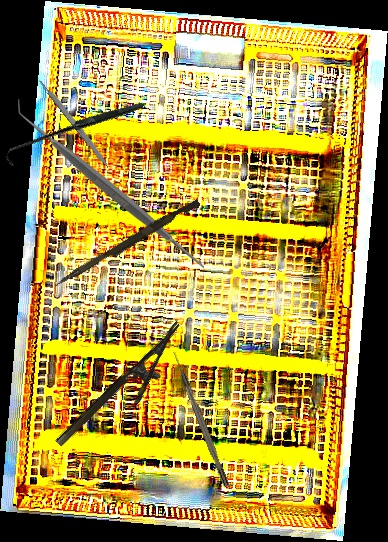Hook Surgical: (3, 64, 145, 203), (171, 350, 230, 488)
Needle Holder: (53, 321, 200, 463)
Pusher: (53, 194, 201, 294)
Scalpel Handle: (38, 78, 112, 169)
Spatula Surgical: (18, 99, 204, 280)
